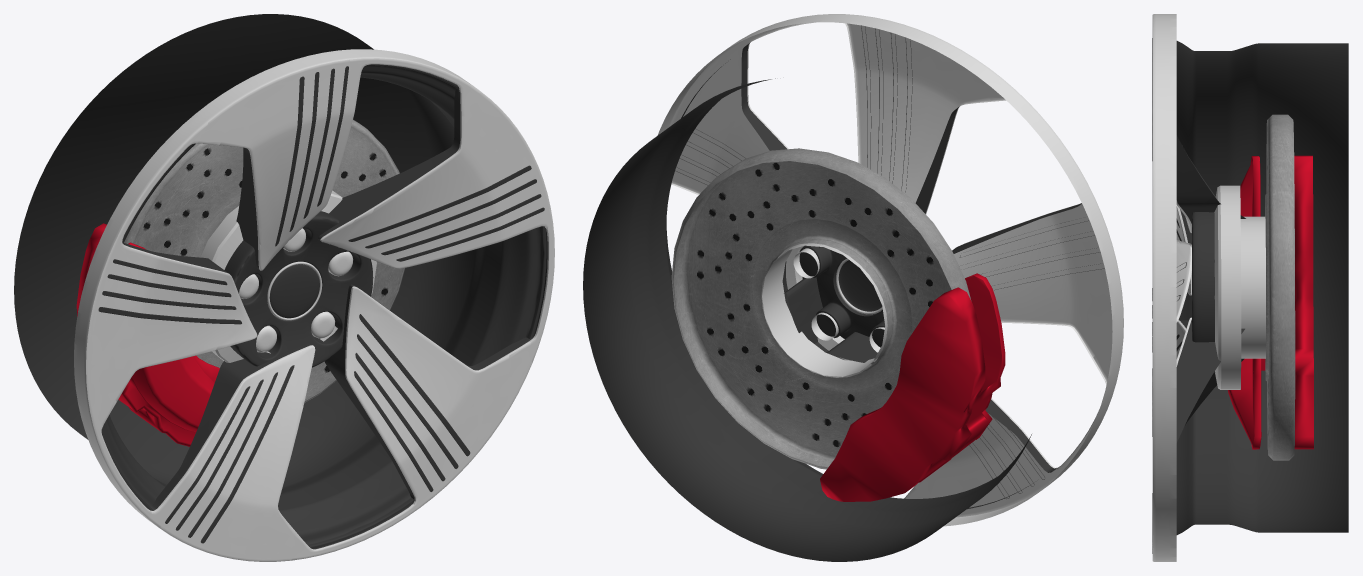
Rendered from jant5.fbx.
3 renders of one model, left to right at view 1: azimuth 30°, elevation 25°; view 2: azimuth 150°, elevation 25°; view 3: azimuth 270°, elevation 25°, orthographic.
Parts seen in each view (by area): view 1: black_shiny_32_black_shiny_0, silver_06_silver_0, Rim_I.004, silver_04_silver_0.001, black_shiny_11_black_shiny_0; view 2: Rim_I.004, black_shiny_32_black_shiny_0, silver_06_silver_0, black_shiny_11_black_shiny_0, silver_04_silver_0.001; view 3: black_shiny_32_black_shiny_0, Rim_I.004, silver_06_silver_0.
Boxes of the visible parts, <box> form: black_shiny_32_black_shiny_0: <box>14,14,547,549</box>; silver_06_silver_0: <box>74,49,554,561</box>; Rim_I.004: <box>76,119,405,446</box>; silver_04_silver_0.001: <box>239,228,353,352</box>; black_shiny_11_black_shiny_0: <box>269,264,319,318</box>; Rim_I.004: <box>671,148,1005,501</box>; black_shiny_32_black_shiny_0: <box>583,25,1104,561</box>; silver_06_silver_0: <box>657,14,1123,526</box>; black_shiny_11_black_shiny_0: <box>838,260,882,311</box>; silver_04_silver_0.001: <box>793,248,884,352</box>; black_shiny_32_black_shiny_0: <box>1152,38,1348,553</box>; Rim_I.004: <box>1214,114,1313,460</box>; silver_06_silver_0: <box>1152,14,1191,561</box>.
Bounding box in the file's own units: 43.28 × 43.28 × 15.51.
Materials: 6 (1 with a texture image).
